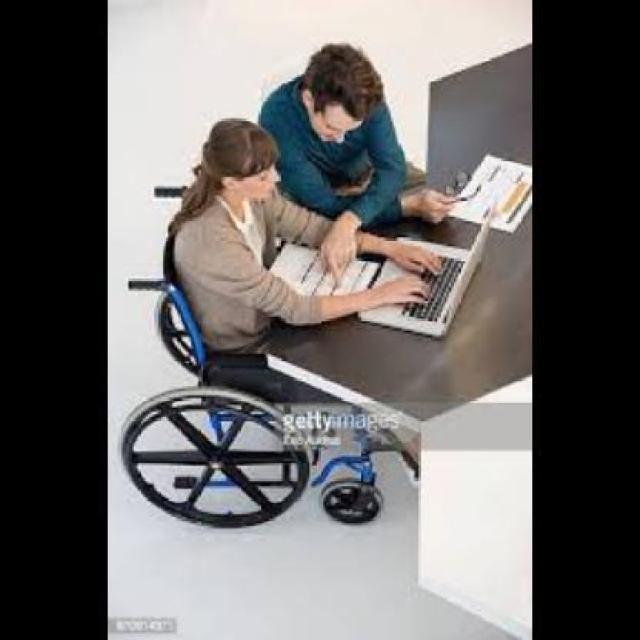wheelchairs: (119, 172, 412, 523)
